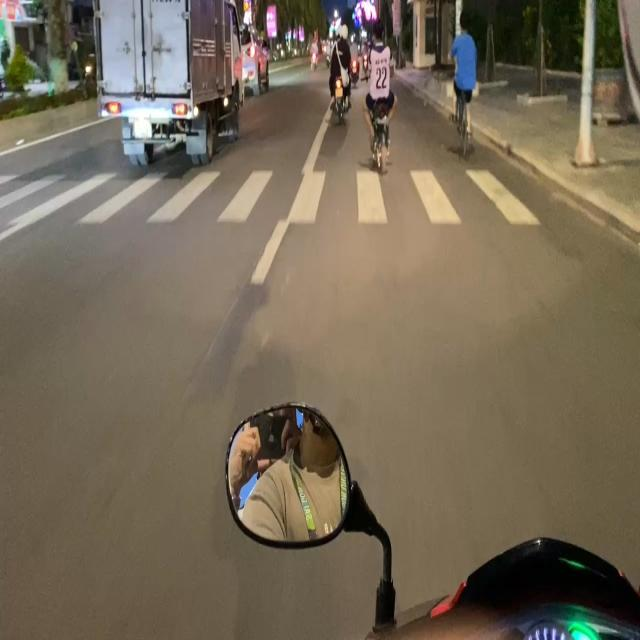walk-crossing: (0, 172, 548, 228)
